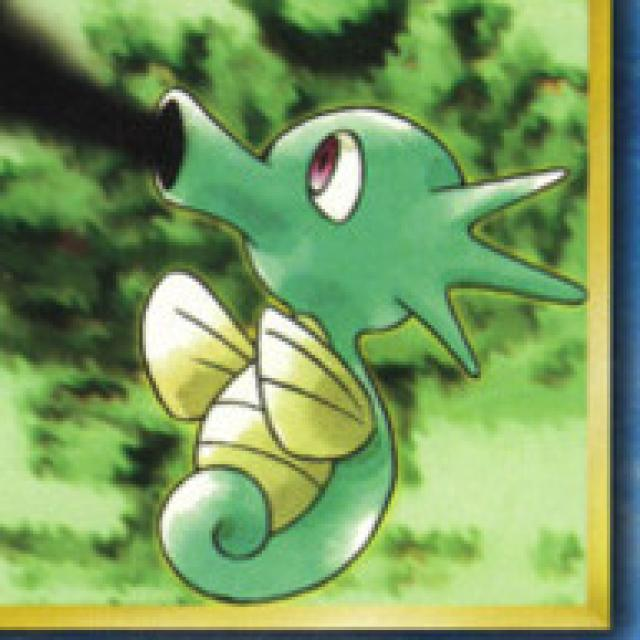Horsea: (127, 99, 492, 601)
